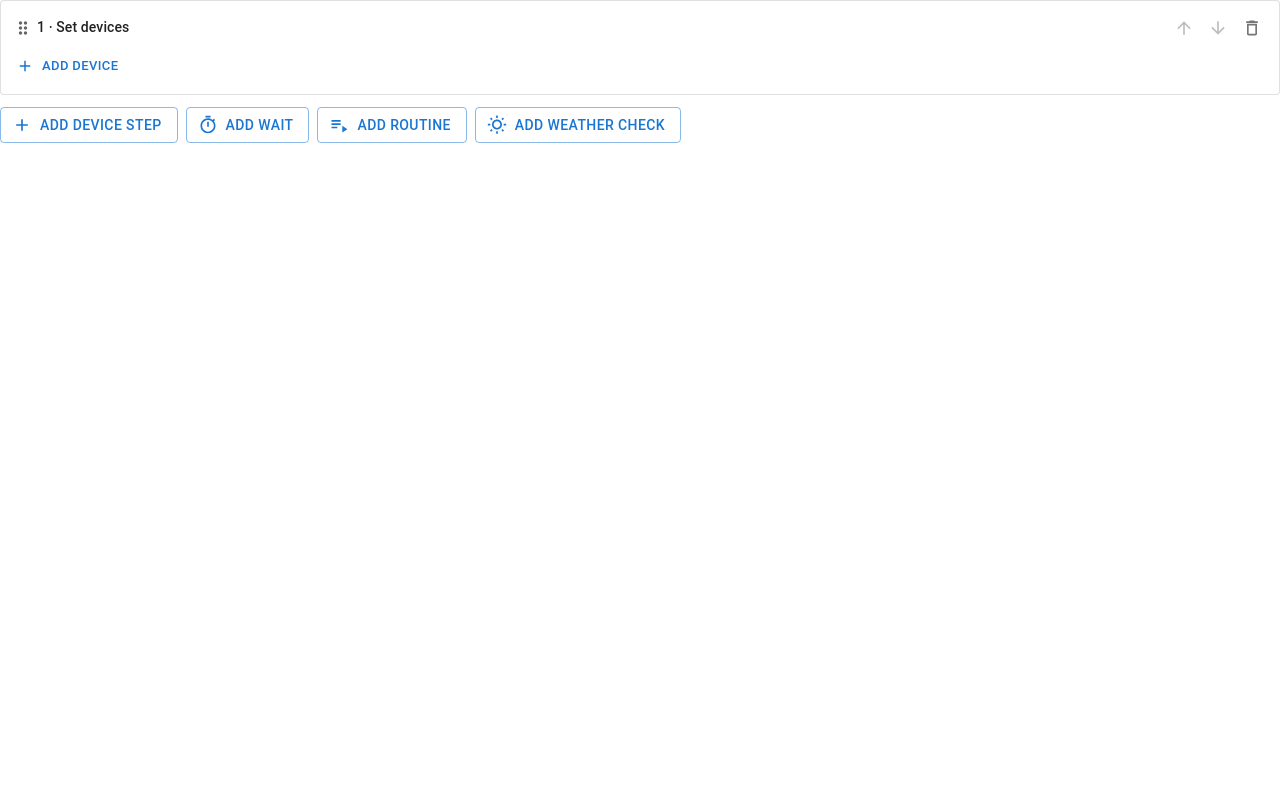
it: StepList › says so when there is no other routine to run
Click the button "Add routine" at (392, 125), box 318,107 -> 467,143
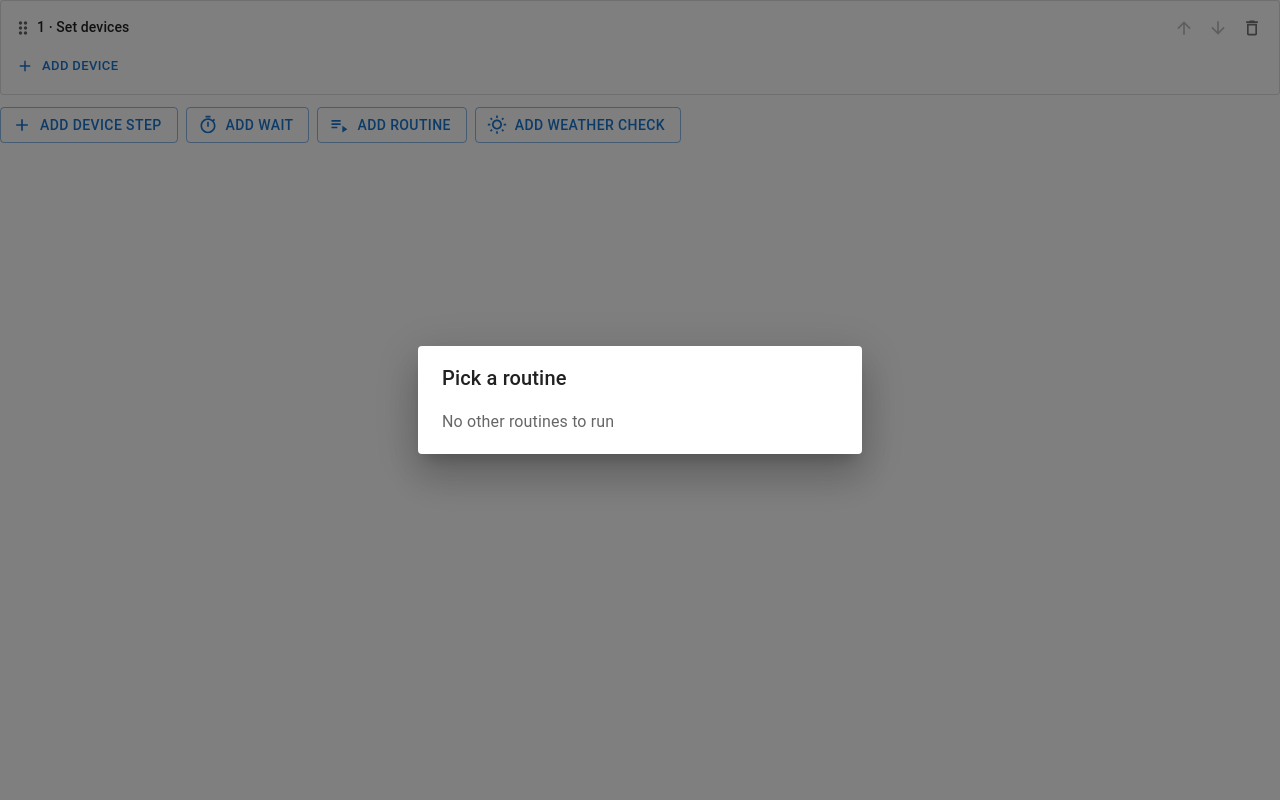
Expected: the text "No other routines to run" is shown, 442,412 -> 614,431
